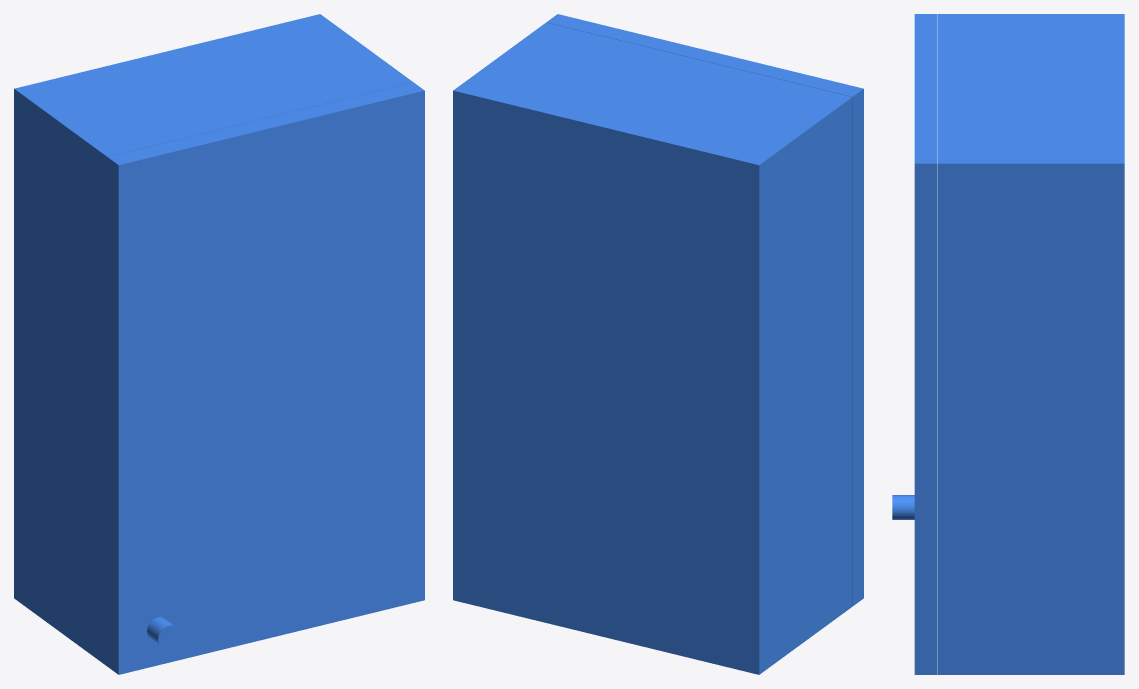
File: Top_Cabinet_L.fbx
3 views of the same model, side by side, from view 1: azimuth 30°, elevation 25°; view 2: azimuth 150°, elevation 25°; view 3: azimuth 270°, elevation 25° (orthographic).
Visible parts, largest first — view 1: Top_Cabinet_L_Door, Top_Cabinet_L; view 2: Top_Cabinet_L, Top_Cabinet_L_Door; view 3: Top_Cabinet_L, Top_Cabinet_L_Door.
Part boxes in pixels (x1,y1,x2,y2): Top_Cabinet_L_Door: (107, 82, 424, 674); Top_Cabinet_L: (14, 14, 412, 666); Top_Cabinet_L: (453, 22, 852, 674); Top_Cabinet_L_Door: (546, 14, 863, 606); Top_Cabinet_L: (938, 14, 1124, 674); Top_Cabinet_L_Door: (892, 14, 937, 674).
Bounding box in the file's own units: 56.59 × 90.05 × 37.08.
